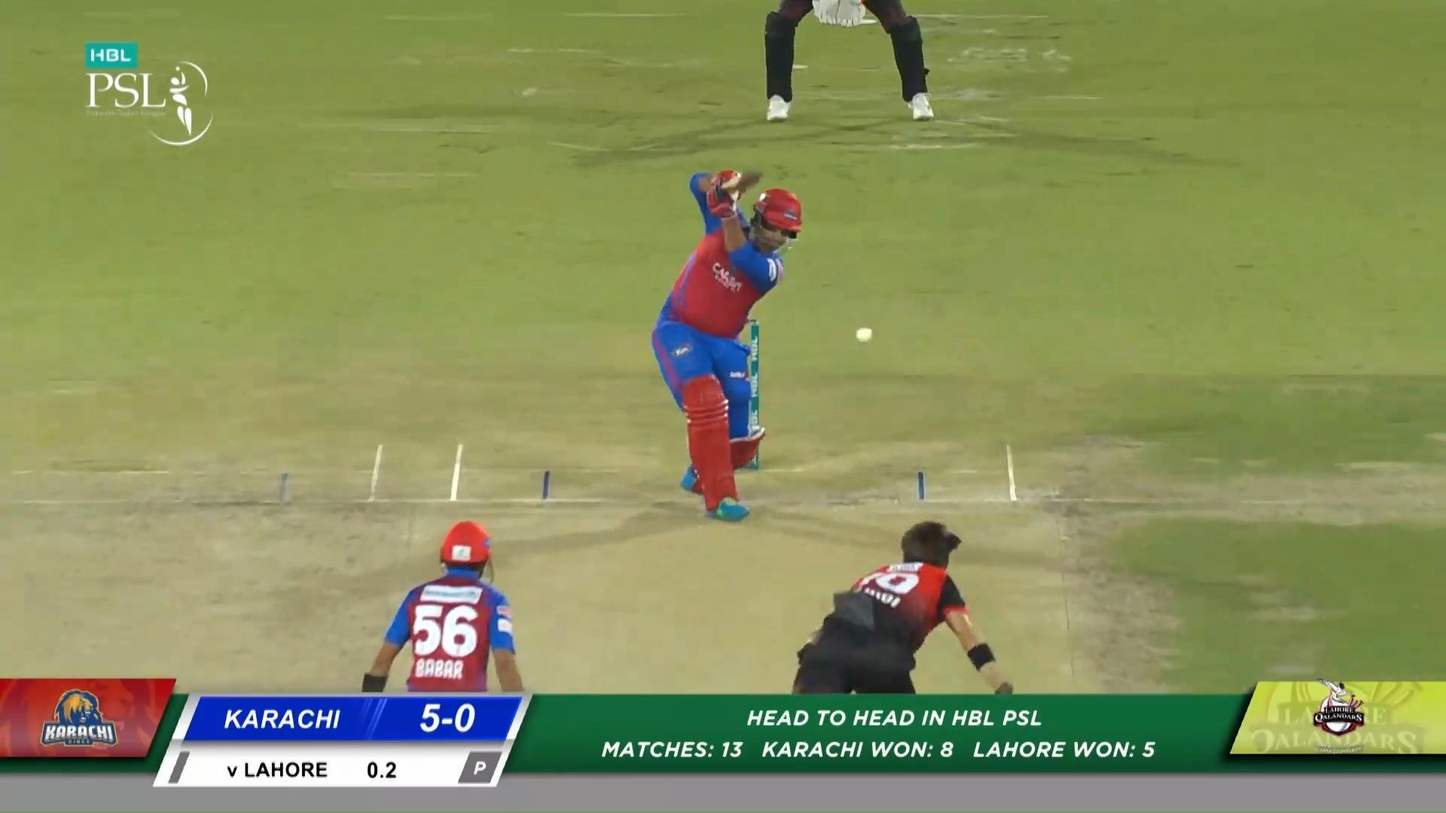BM 1: (650, 163, 804, 524)
BO: (790, 519, 1018, 693)
